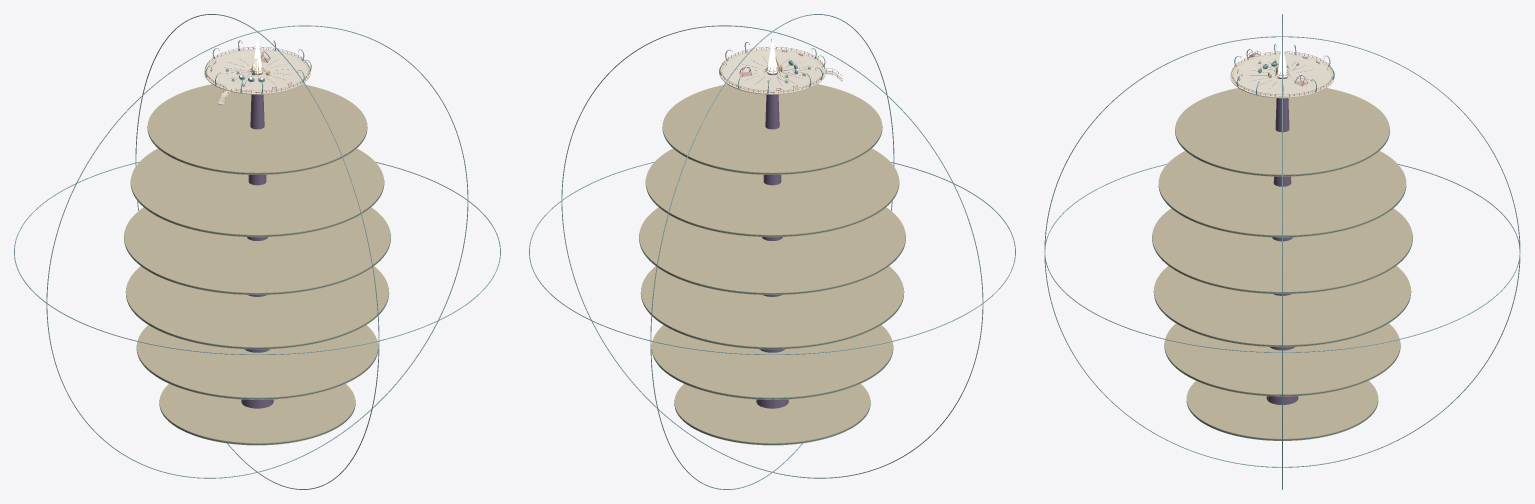
Rendered from ship_dimensions_tiers_v1.glb.
3 views of the same model, side by side, from view 1: azimuth 30°, elevation 25°; view 2: azimuth 150°, elevation 25°; view 3: azimuth 270°, elevation 25° (orthographic). The views are drawn at different scales.
Visible parts, largest first — view 1: Deck 02 top 32m, Deck 01 top 57m, Deck 03 top 7m, Deck 04 top -18m, Deck 05 top -43m, Deck 06 top -68m, GUIDE bubble great circle 1, GUIDE bubble great circle 0, GUIDE bubble great circle 2, Spire below bridge, deck_floor_fill; view 2: Deck 01 top 57m, Deck 02 top 32m, Deck 03 top 7m, Deck 04 top -18m, Deck 05 top -43m, Deck 06 top -68m, GUIDE bubble great circle 1, GUIDE bubble great circle 0, GUIDE bubble great circle 2, Spire below bridge, deck_floor_fill; view 3: Deck 01 top 57m, Deck 02 top 32m, Deck 03 top 7m, Deck 04 top -18m, Deck 05 top -43m, Deck 06 top -68m, GUIDE bubble great circle 2, GUIDE bubble great circle 0, Spire below bridge, deck_floor_fill.
Boxes of the visible parts, bbox=[...] form: Deck 02 top 32m: bbox=[131, 148, 383, 237]; Deck 01 top 57m: bbox=[147, 84, 367, 174]; Deck 03 top 7m: bbox=[124, 207, 390, 294]; Deck 04 top -18m: bbox=[126, 266, 388, 349]; Deck 05 top -43m: bbox=[136, 325, 378, 399]; Deck 06 top -68m: bbox=[159, 384, 355, 445]; GUIDE bubble great circle 1: bbox=[46, 25, 468, 478]; GUIDE bubble great circle 0: bbox=[14, 162, 500, 354]; GUIDE bubble great circle 2: bbox=[135, 14, 379, 489]; Spire below bridge: bbox=[241, 72, 273, 408]; deck_floor_fill: bbox=[204, 48, 310, 93]; Deck 01 top 57m: bbox=[662, 84, 882, 174]; Deck 02 top 32m: bbox=[646, 148, 898, 237]; Deck 03 top 7m: bbox=[639, 207, 905, 294]; Deck 04 top -18m: bbox=[641, 266, 903, 349]; Deck 05 top -43m: bbox=[651, 325, 893, 399]; Deck 06 top -68m: bbox=[674, 384, 870, 445]; GUIDE bubble great circle 1: bbox=[561, 25, 983, 478]; GUIDE bubble great circle 0: bbox=[529, 162, 1015, 354]; GUIDE bubble great circle 2: bbox=[650, 14, 894, 489]; Spire below bridge: bbox=[756, 72, 788, 408]; deck_floor_fill: bbox=[719, 48, 825, 93]; Deck 01 top 57m: bbox=[1175, 88, 1389, 176]; Deck 02 top 32m: bbox=[1158, 151, 1406, 237]; Deck 03 top 7m: bbox=[1152, 208, 1412, 293]; Deck 04 top -18m: bbox=[1154, 266, 1410, 347]; Deck 05 top -43m: bbox=[1164, 323, 1400, 396]; Deck 06 top -68m: bbox=[1186, 381, 1378, 440]; GUIDE bubble great circle 2: bbox=[1044, 36, 1520, 467]; GUIDE bubble great circle 0: bbox=[1044, 164, 1520, 352]; Spire below bridge: bbox=[1266, 77, 1298, 404]; deck_floor_fill: bbox=[1230, 53, 1334, 97].
Size of the model in its own units: 200 by 200 by 200.
